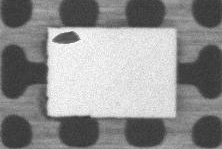DIE_INK: (51, 29, 82, 45)
